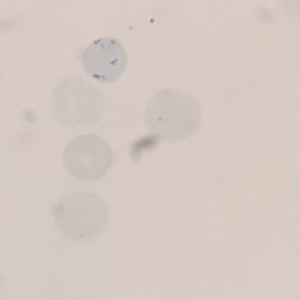aggregate reticulocyte: (80, 37, 129, 84)
erythrocyte: (49, 75, 107, 130), (52, 189, 110, 243), (60, 132, 114, 183)
punctate reticulocyte: (141, 87, 201, 144)
